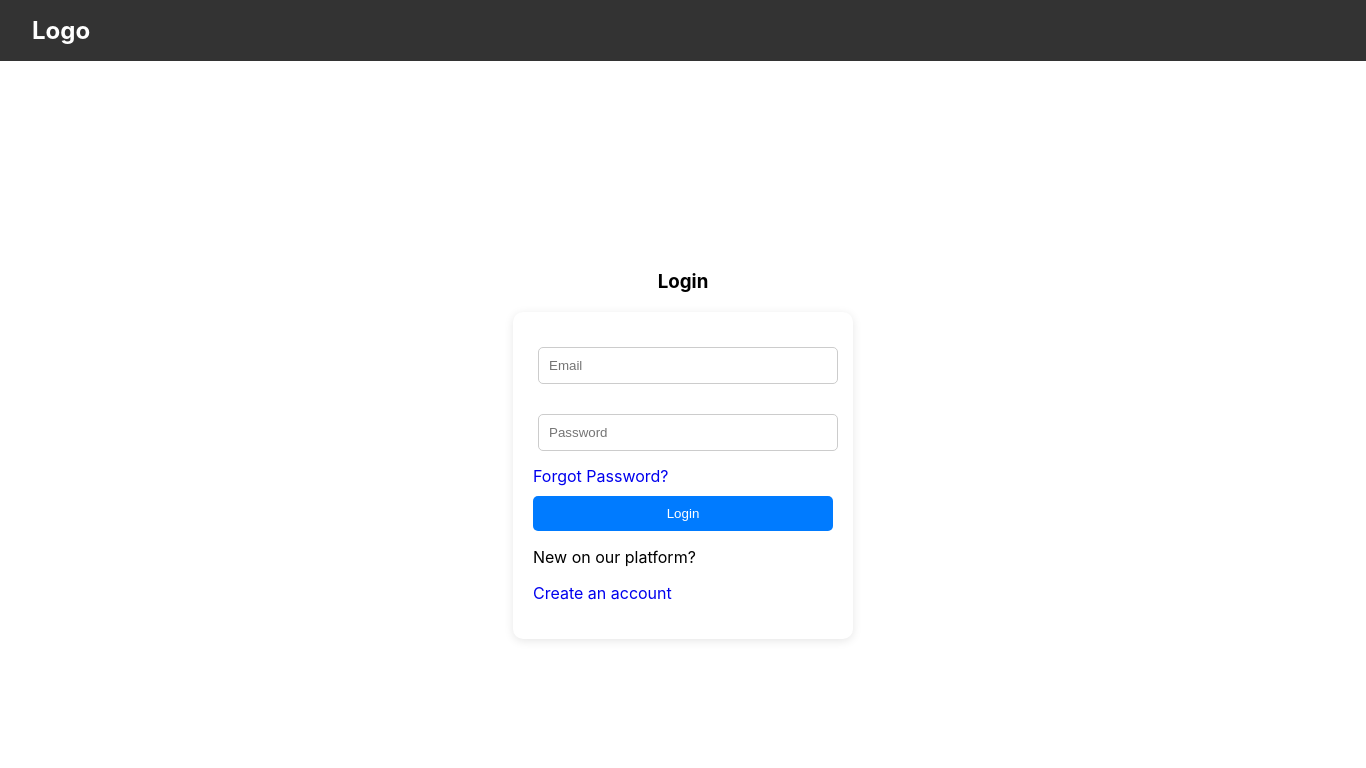
Scenario: Login › shows error message for password length
Type "123" into the password field with placeholder "Password".
click(688, 432); type("123")  # box [538,414,838,451]
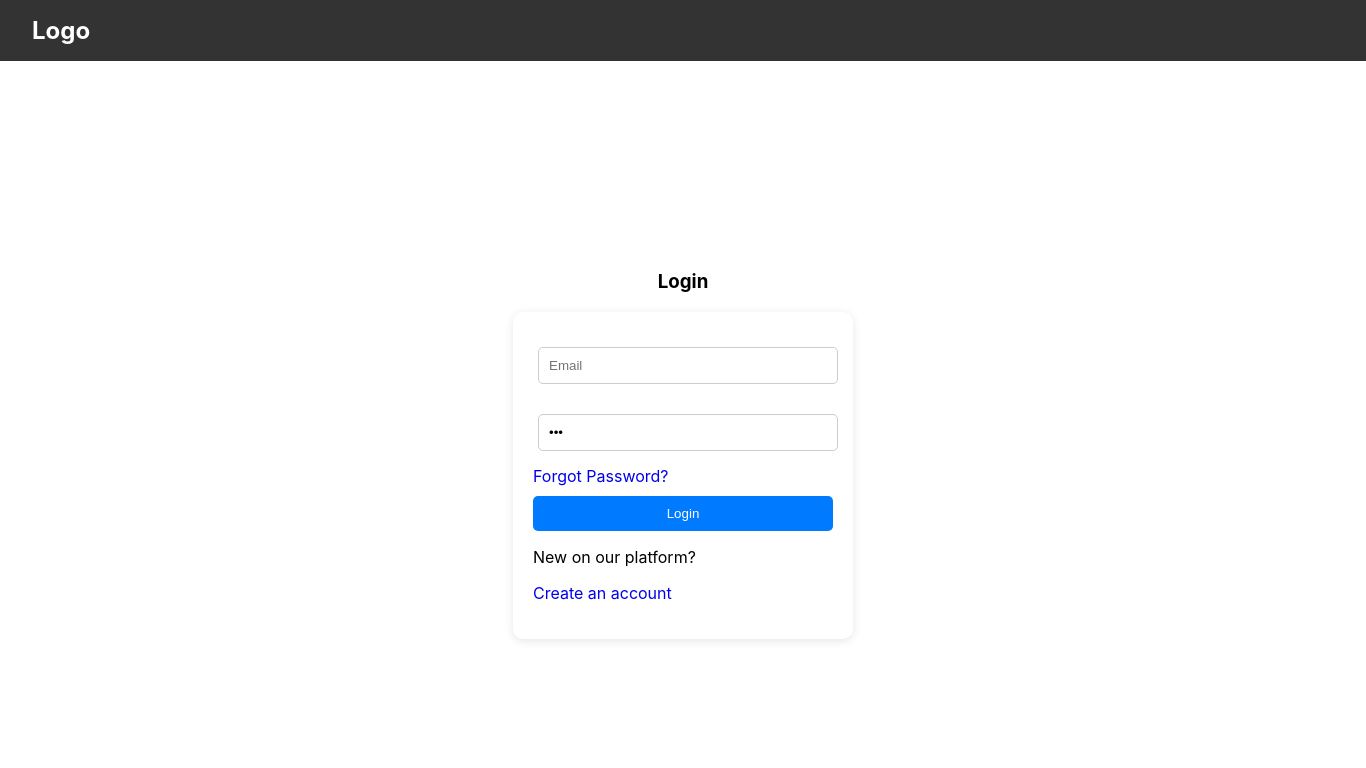
Click the button "Login".
click(683, 513)  # box [533,496,833,531]
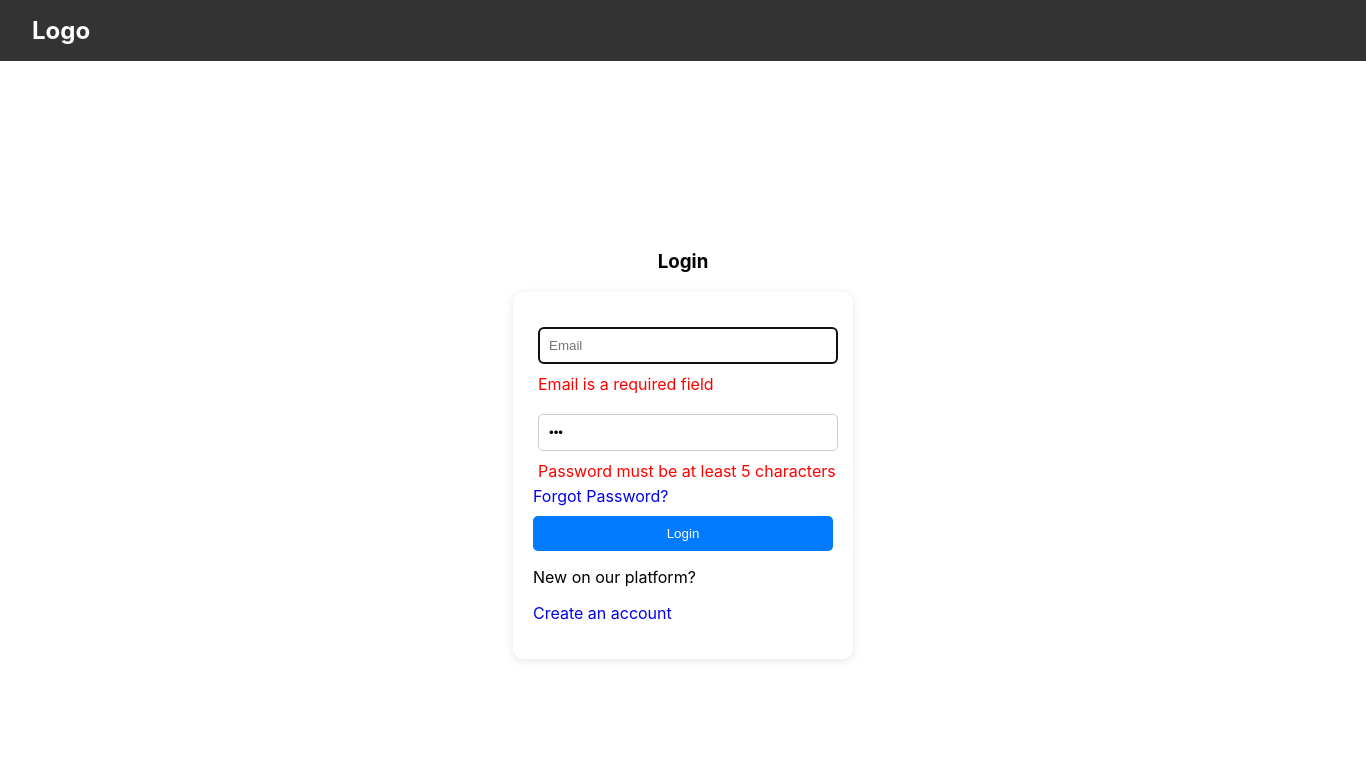
expect the text "Password must be at least 5 characters" is shown: met, box [538,461,838,481]
